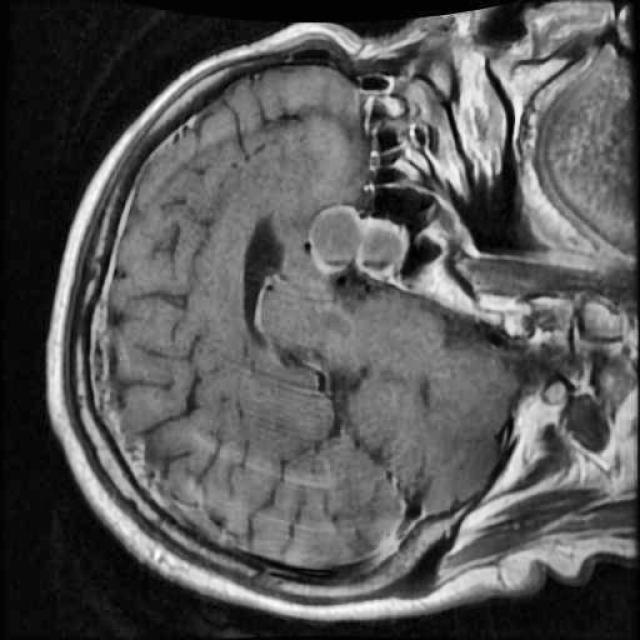Tumor: (302, 194, 419, 295)
